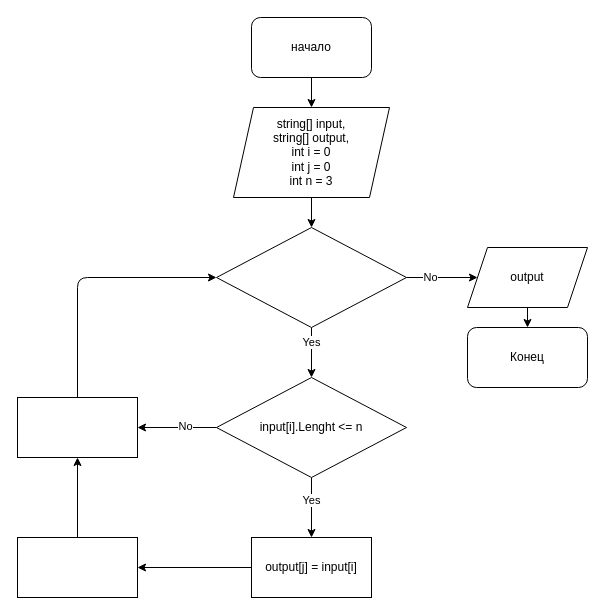
The diagram is 605 pixels wide and 615 high, and some of its shapes have lost their labels. The centre of each missing label's shape, as x and y in pixels:
i < input .Lenght: pixel 311 277
i++: pixel 77 427
j++: pixel 77 567
